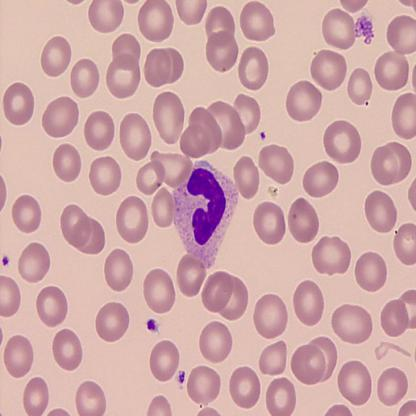Band Neutrophil: (171, 156, 240, 271)
